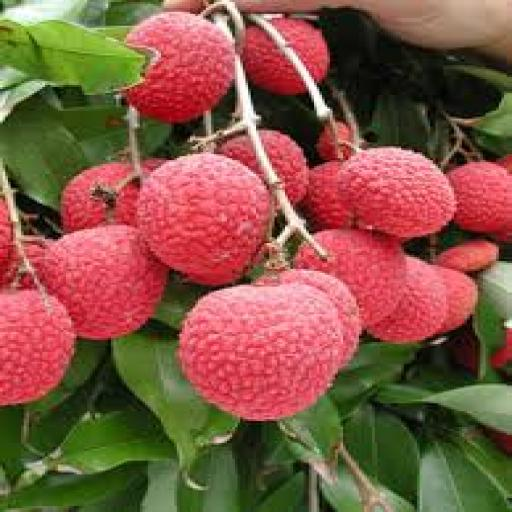lychee: (180, 285, 345, 421), (138, 155, 271, 284), (40, 226, 168, 340), (125, 12, 234, 122), (341, 147, 456, 239), (296, 230, 406, 326), (259, 269, 361, 365), (0, 291, 76, 405), (370, 257, 446, 343), (61, 163, 139, 231), (449, 163, 511, 233), (243, 26, 306, 94), (301, 163, 353, 231), (259, 131, 308, 203), (433, 265, 477, 334), (436, 240, 498, 272), (317, 121, 353, 162), (0, 248, 36, 288), (0, 200, 13, 274), (491, 329, 511, 369), (486, 429, 511, 454), (497, 155, 511, 173)
